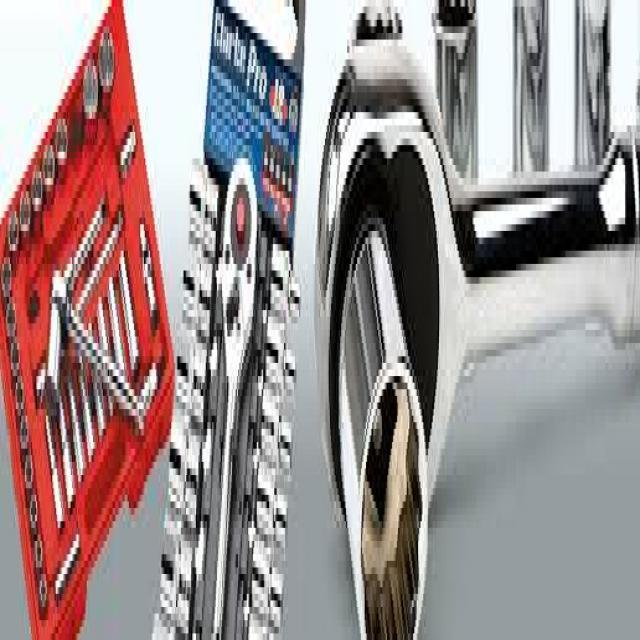wrench: (312, 36, 640, 640), (211, 143, 261, 640), (39, 272, 146, 443)
